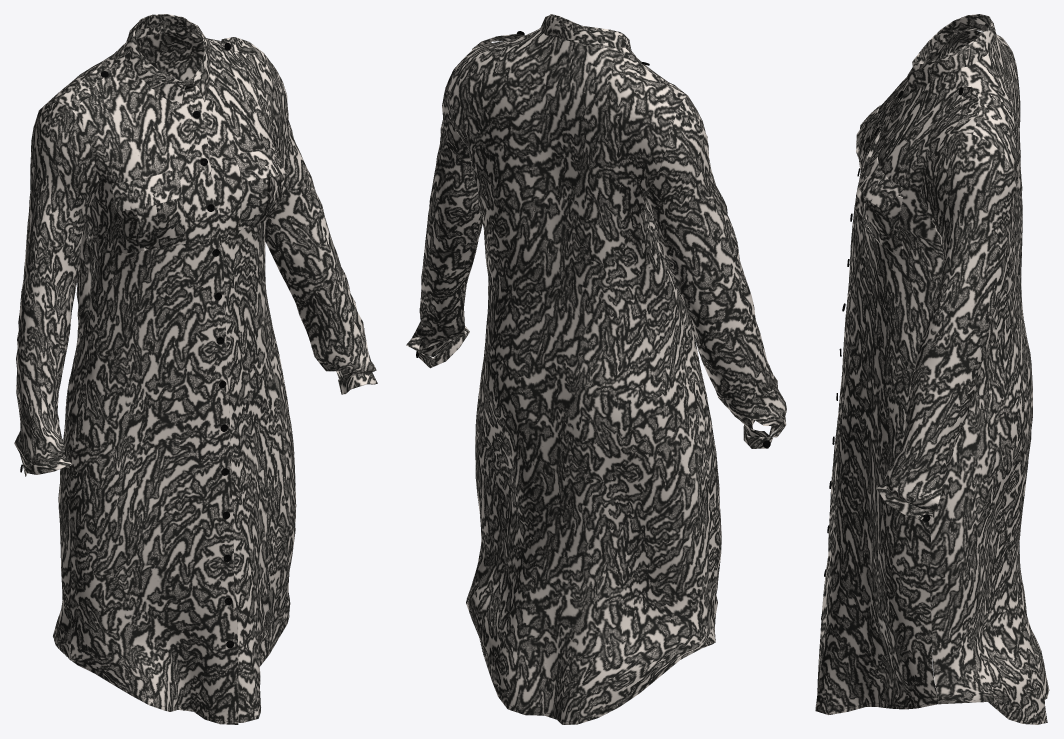
The model's file is vayendresslowpoly1.fbx.
3 views of the same model, side by side, from view 1: azimuth 30°, elevation 25°; view 2: azimuth 150°, elevation 25°; view 3: azimuth 270°, elevation 25° (orthographic). The views are drawn at different scales.
Parts seen in each view (by area): view 1: Vayen dress 002_10; view 2: Vayen dress 002_10; view 3: Vayen dress 002_10.
Boxes of the visible parts, x1,y1,x2,y2 form: Vayen dress 002_10: (14,14,377,724); Vayen dress 002_10: (406,14,786,724); Vayen dress 002_10: (815,14,1049,724).
Size of the model in its own units: 62.73 by 112 by 34.5.
Materials: 79 (79 with a texture image).
